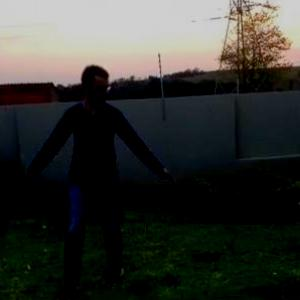land: (5, 68, 172, 286)
